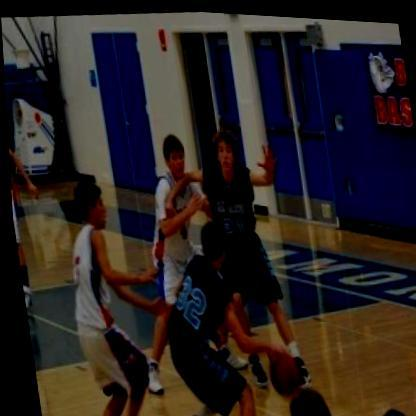basketball: (255, 341, 303, 396)
